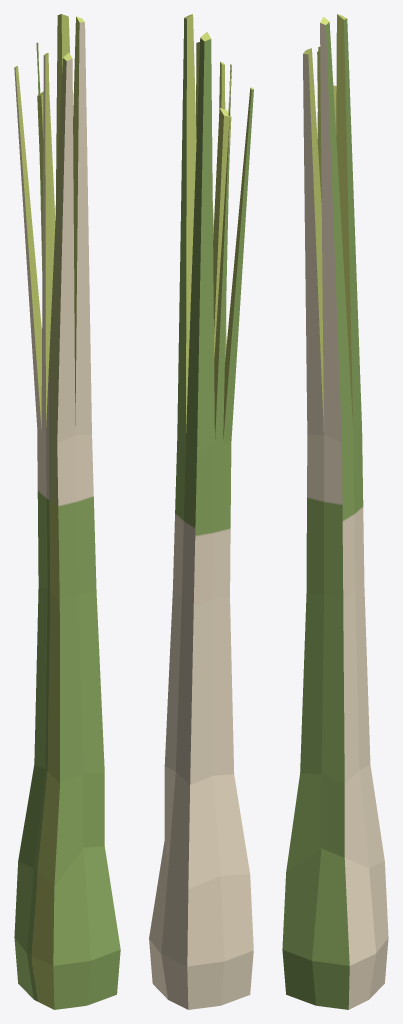
The model's file is takaiobj.obj.
The picture shows the model from 3 angles, left to right: view 1: azimuth 30°, elevation 25°; view 2: azimuth 210°, elevation 25°; view 3: azimuth 330°, elevation 25°; orthographic projection.
Visible parts, largest first — view 1: Cube; view 2: Cube; view 3: Cube.
Part boxes in pixels (x1,y1,x2,y2): Cube: (14, 14, 120, 1009); Cube: (149, 14, 253, 1009); Cube: (282, 14, 388, 1009).
Size of the model in its own units: 1.36 by 15.87 by 1.36.
